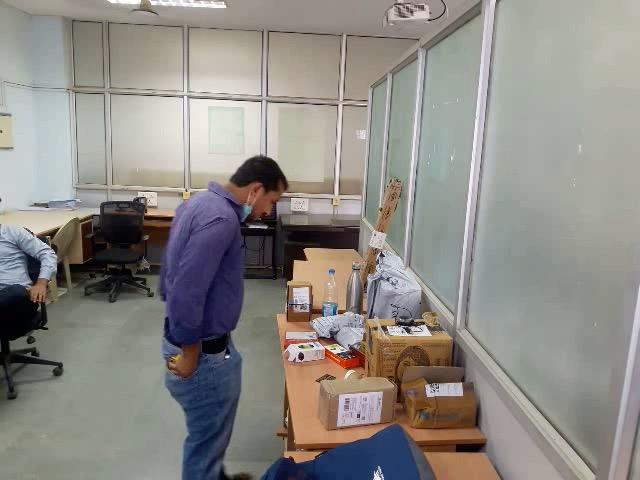shoplifting: (95, 306, 284, 415)
